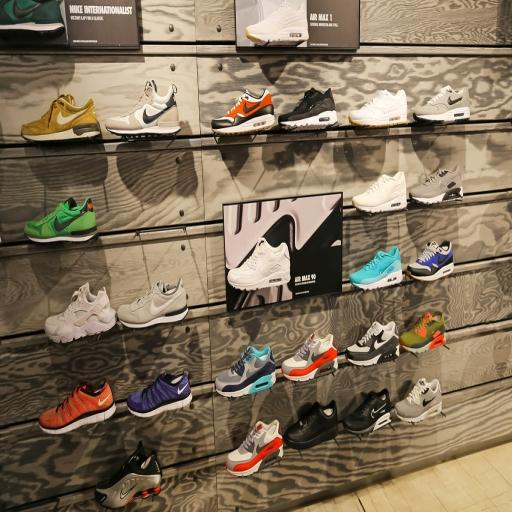shoe: (94, 441, 162, 508), (105, 79, 181, 138), (44, 282, 116, 342), (38, 381, 116, 434), (20, 94, 100, 142), (117, 279, 188, 328), (24, 197, 98, 242), (227, 238, 291, 290), (225, 420, 283, 476), (214, 346, 276, 397), (126, 372, 192, 418), (211, 89, 275, 135), (281, 333, 338, 381), (284, 400, 338, 450), (245, 2, 309, 44), (278, 88, 338, 131), (342, 388, 392, 436), (346, 322, 400, 366), (349, 246, 403, 290), (352, 171, 407, 213), (348, 89, 408, 127), (0, 0, 64, 33), (394, 378, 442, 422), (413, 85, 470, 122), (409, 166, 463, 204), (400, 311, 446, 353), (406, 241, 454, 281)
